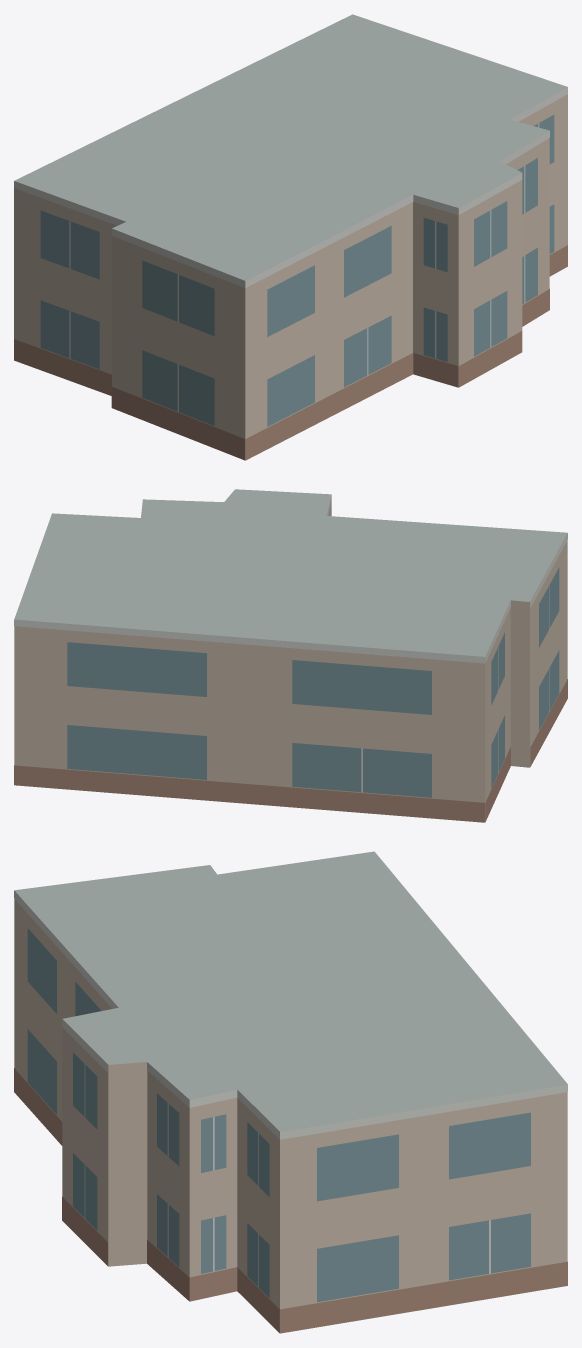
The model's file is survey-upis-32753109.glb.
3 renders of one model, top to bottom at view 1: azimuth 30°, elevation 25°; view 2: azimuth 150°, elevation 25°; view 3: azimuth 270°, elevation 25°, orthographic. The views are drawn at different scales.
Visible parts, largest first — view 1: survey-upis-32753109.tmp; view 2: survey-upis-32753109.tmp; view 3: survey-upis-32753109.tmp.
Boxes of the visible parts, x1,y1,x2,y2 form: survey-upis-32753109.tmp: (14, 14, 567, 460); survey-upis-32753109.tmp: (14, 489, 567, 822); survey-upis-32753109.tmp: (14, 851, 567, 1333).
Size of the model in its own units: 18.19 by 6.1 by 15.18.
